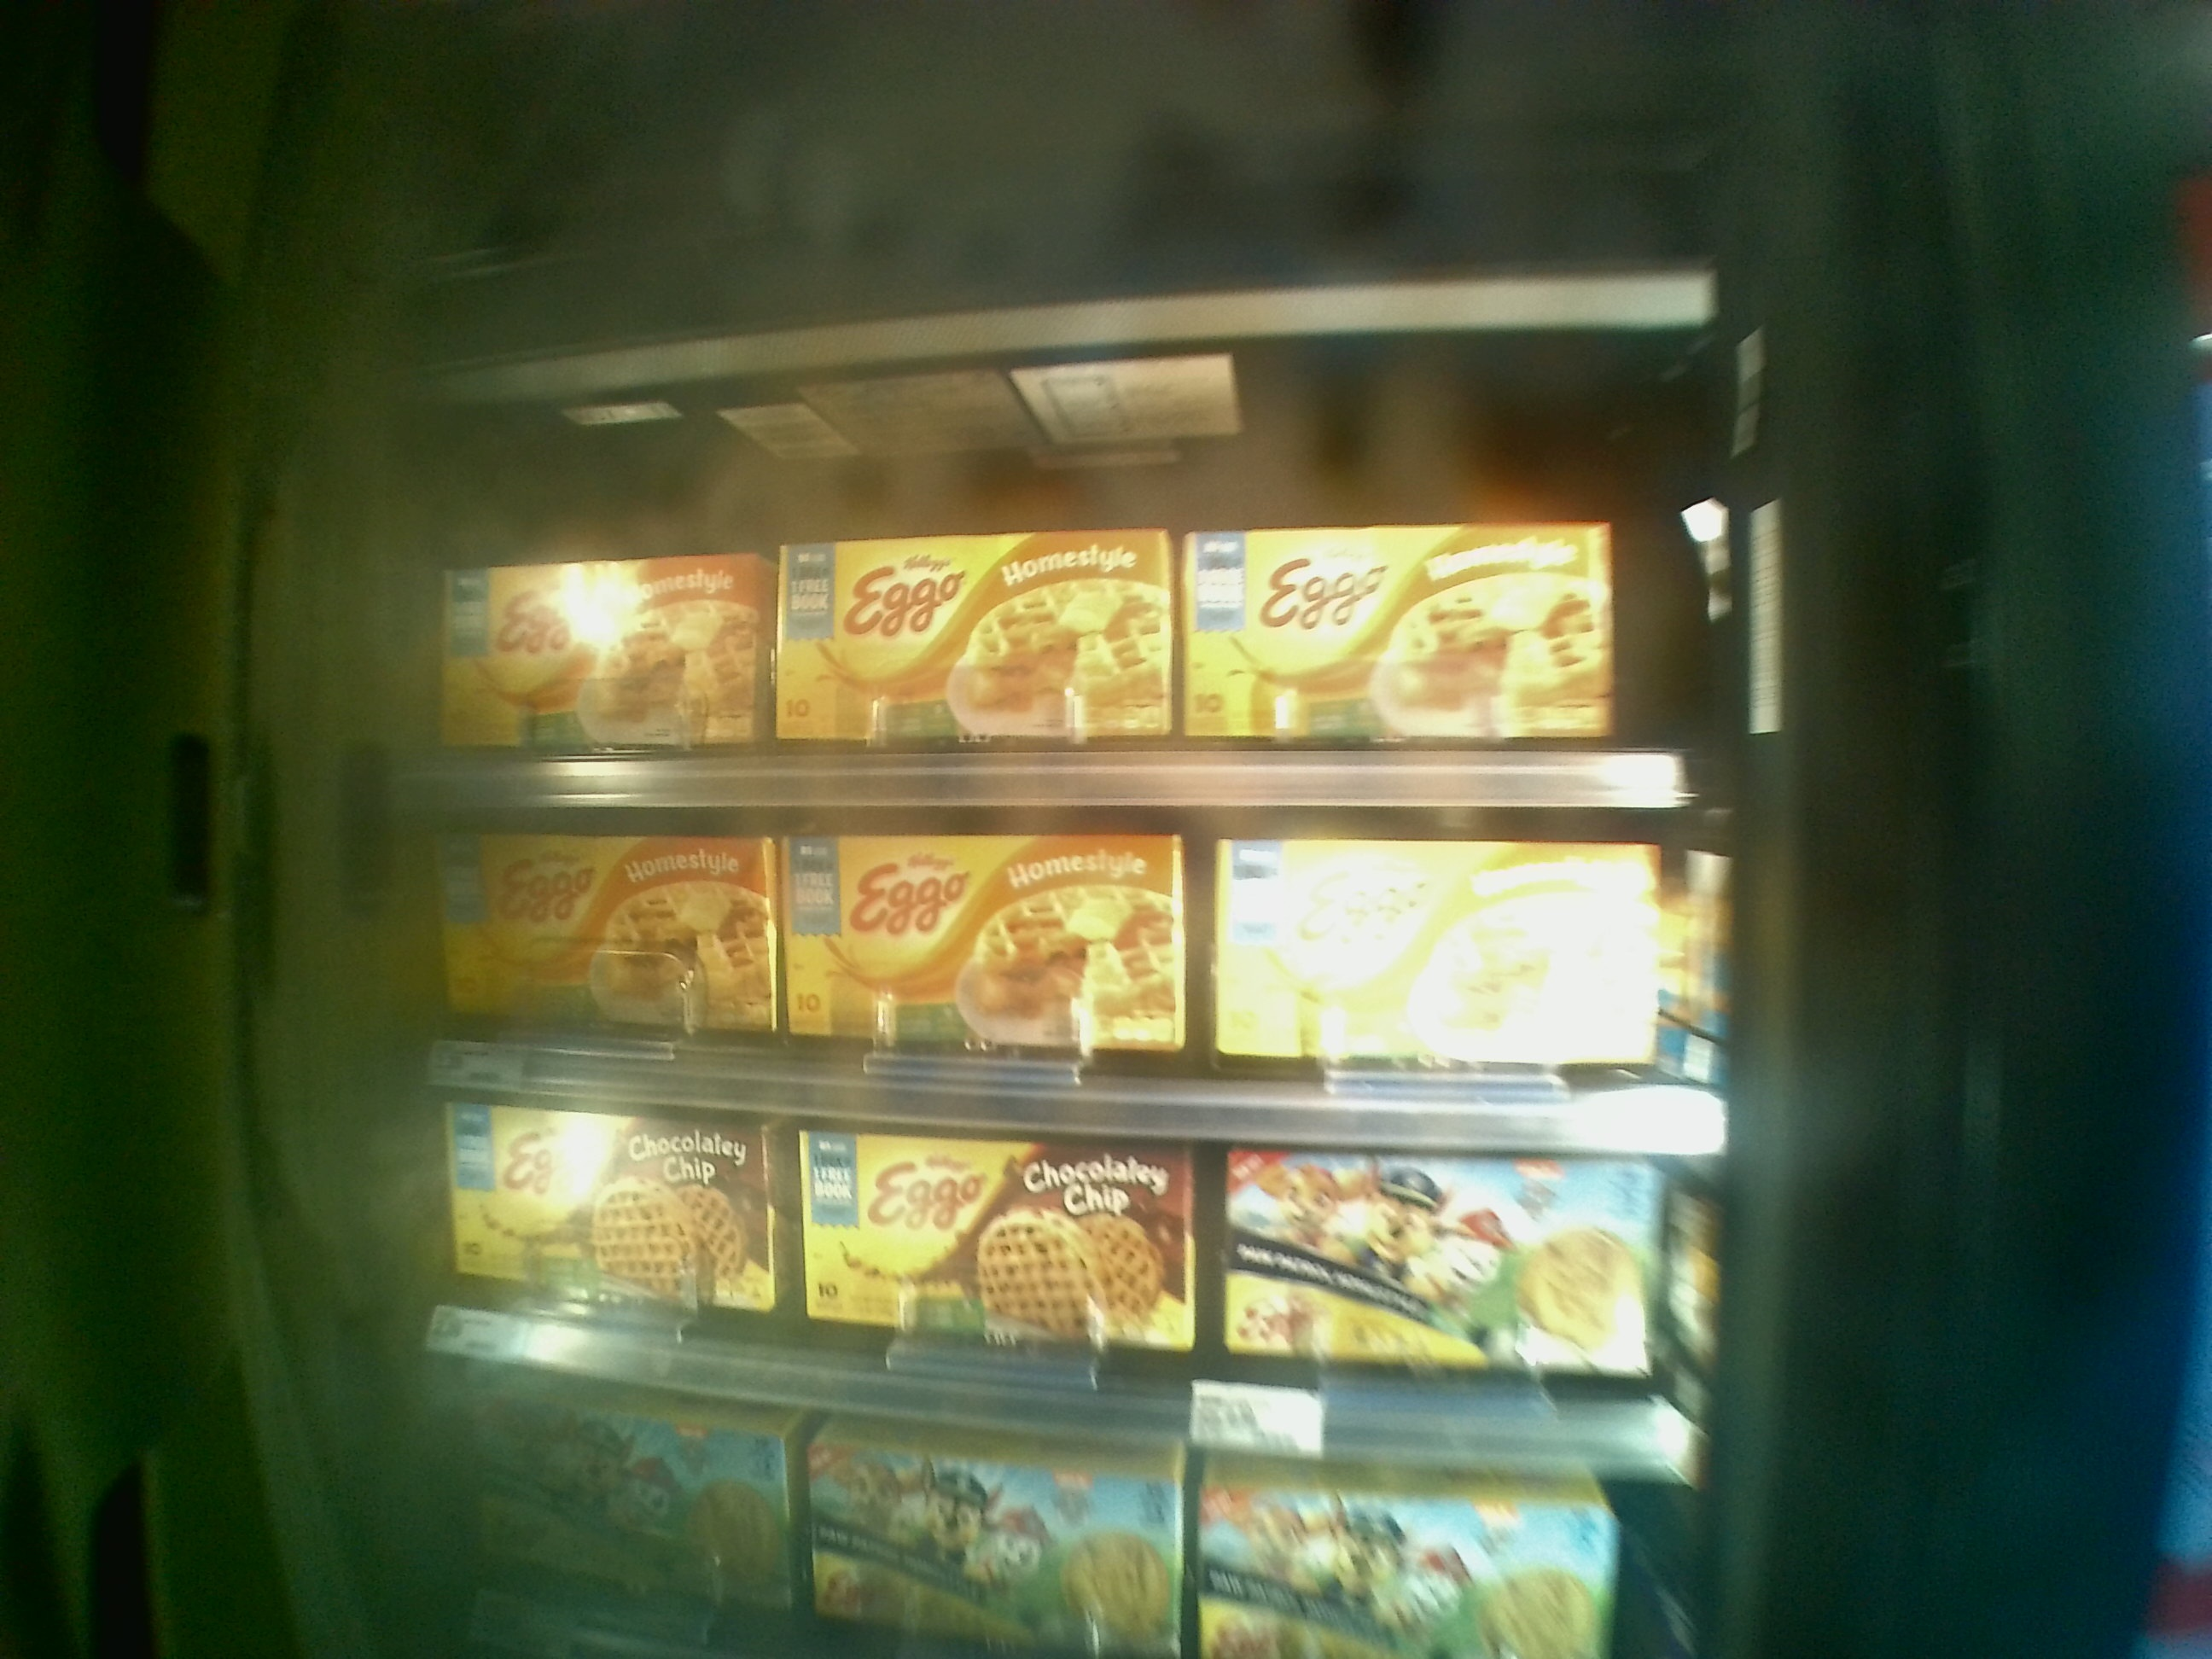shelf: (409, 1086, 1714, 1480), (411, 448, 1726, 812), (425, 812, 1726, 1148)
